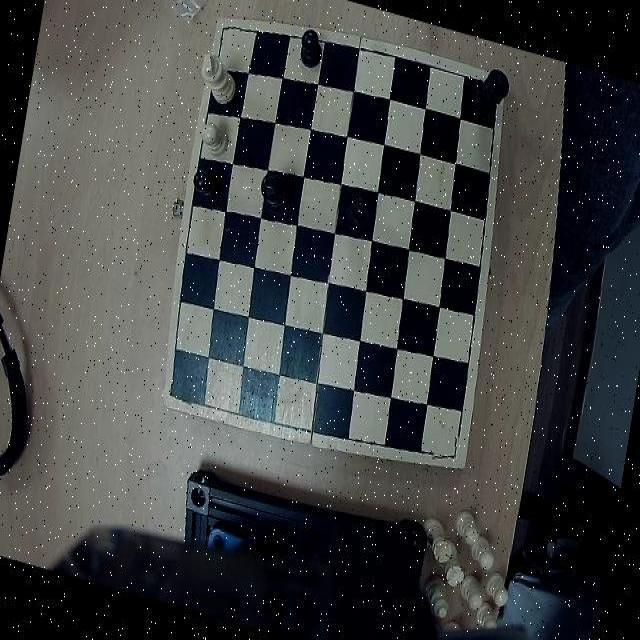chess-table-corners: (431, 430, 466, 470), (162, 374, 197, 410), (476, 74, 506, 108), (214, 17, 242, 48)
